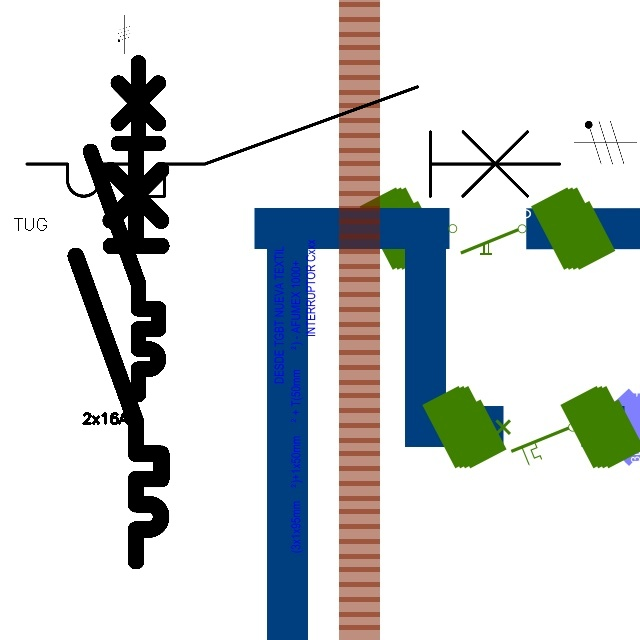interruptor_termomagnetico: (13, 73, 574, 210), (65, 134, 172, 572), (82, 54, 167, 402)
